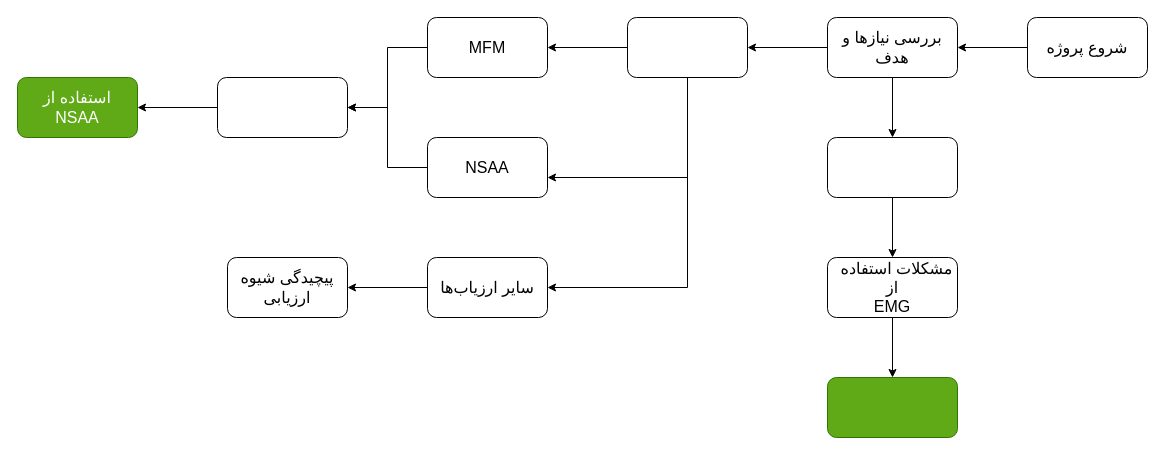
Some shapes in this 1165 by 455 pixel diagram are drawn without their labels. Each missing label, with the centre of its shape:
استفاده از IMU: the point at 892,407
بررسی ارزیاب‌های عملکردی مختلف: the point at 687,47
بررسی قابلیت اندازه‌گیری با IMU: the point at 282,107
تجربیات پژوهش‌های گذشته: the point at 892,167
